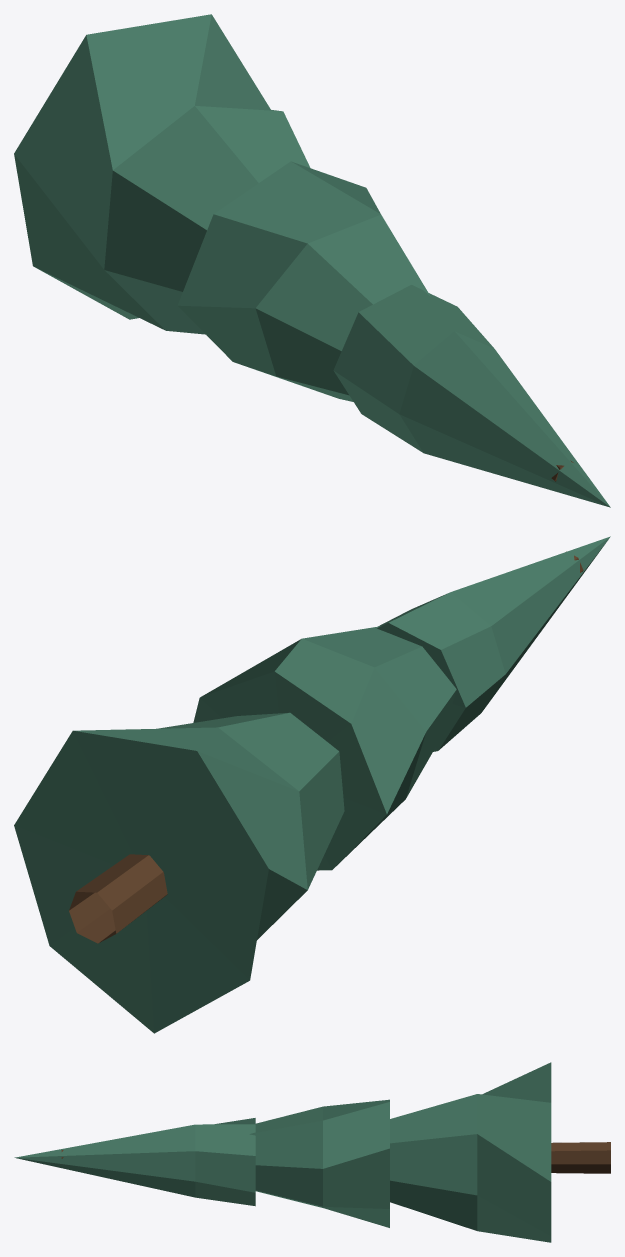
File: growth_2.glb
3 views of the same model, one above another, from view 1: azimuth 30°, elevation 25°; view 2: azimuth 150°, elevation 25°; view 3: azimuth 270°, elevation 25° (orthographic). The views are drawn at different scales.
Parts seen in each view (by area): view 1: tree_09_growth_2; view 2: tree_09_growth_2; view 3: tree_09_growth_2.
Part boxes in pixels (x1,y1,x2,y2): tree_09_growth_2: (14,14,610,507); tree_09_growth_2: (14,536,610,1033); tree_09_growth_2: (14,1062,610,1242).
Bounding box in the file's own units: 9.66 × 10.62 × 34.08.
